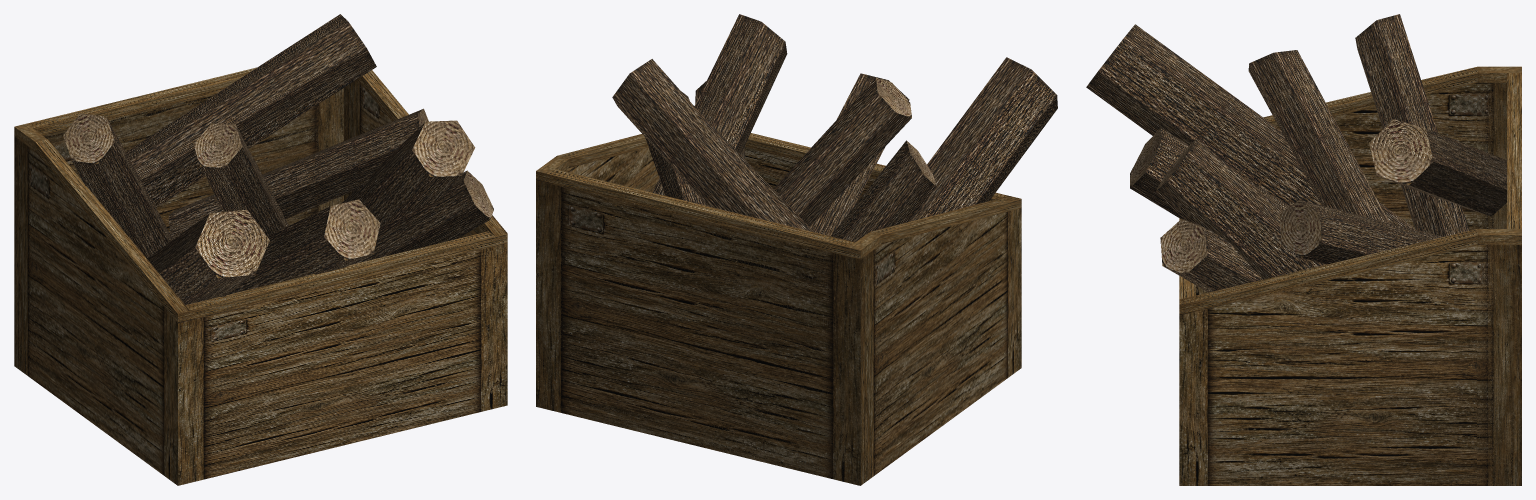
The model's file is mm9_deco_woodbin.glb.
3 renders of one model, left to right at view 1: azimuth 30°, elevation 25°; view 2: azimuth 150°, elevation 25°; view 3: azimuth 270°, elevation 25°, orthographic. The views are drawn at different scales.
Parts seen in each view (by area): view 1: Woodbin; view 2: Woodbin; view 3: Woodbin.
Part boxes in pixels (x1=…): Woodbin: x1=14, y1=14, x2=507, y2=485; Woodbin: x1=536, y1=14, x2=1057, y2=485; Woodbin: x1=1086, y1=14, x2=1521, y2=485.
Size of the model in its own units: 0.9908 by 0.8999 by 1.05.
1 material, 1 textured.
